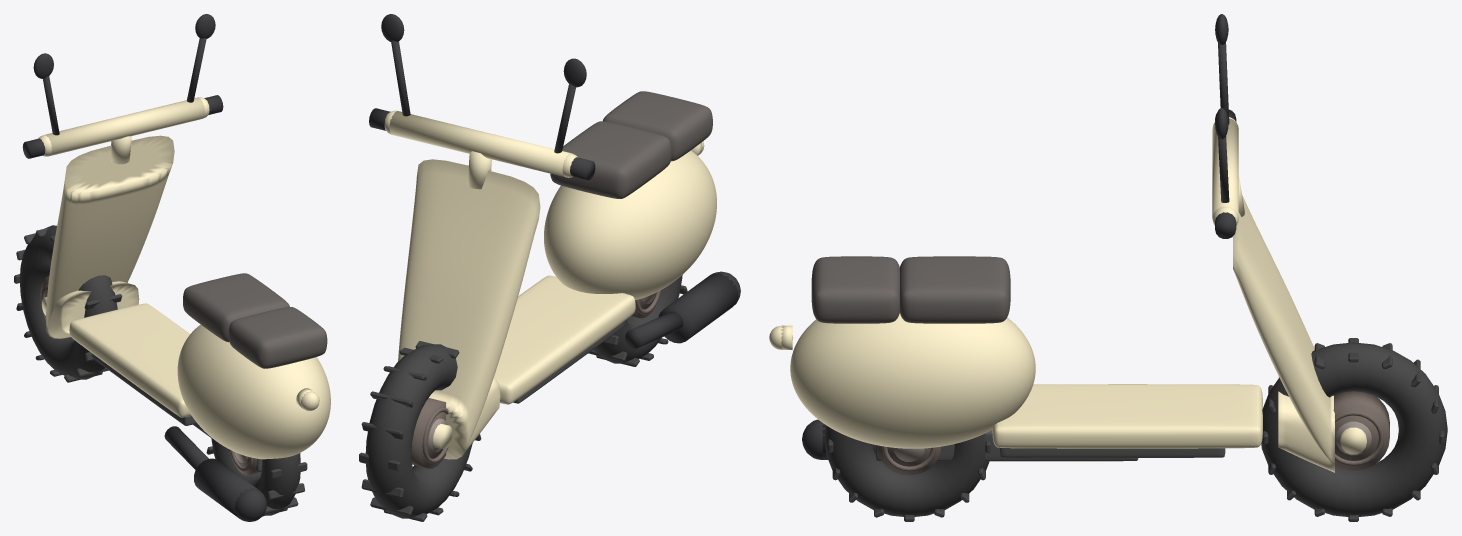
File: 40-scooter.glb
The picture shows the model from 3 angles, left to right: view 1: azimuth 30°, elevation 25°; view 2: azimuth 150°, elevation 25°; view 3: azimuth 270°, elevation 25°; orthographic projection. The views are drawn at different scales.
Parts seen in each view (by area): view 1: legshield, rear_cowl, floorboard, front_tire, seat_rear, seat_front, headset_bar, rear_tire, bridge, exhaust_muffler, Sphere.003, exhaust_pipe (+7 smaller); view 2: legshield, rear_cowl, front_tire, floorboard, seat_front, headset_bar, seat_rear, exhaust_muffler, rear_tire, front_hub, exhaust_pipe, bridge (+7 smaller); view 3: rear_cowl, floorboard, front_tire, legshield, rear_tire, seat_front, seat_rear, front_hub, under_panel, bridge, headset_bar, frame_spine.
Boxes of the visible parts, bbox=[...] form: legshield: bbox=[45, 135, 174, 330]; rear_cowl: bbox=[177, 324, 330, 459]; floorboard: bbox=[69, 303, 191, 417]; front_tire: bbox=[19, 225, 117, 379]; seat_rear: bbox=[228, 307, 327, 368]; seat_front: bbox=[183, 273, 289, 342]; headset_bar: bbox=[45, 97, 205, 155]; rear_tire: bbox=[211, 437, 300, 515]; bridge: bbox=[46, 281, 139, 338]; exhaust_muffler: bbox=[194, 458, 259, 518]; Sphere.003: bbox=[234, 488, 266, 521]; exhaust_pipe: bbox=[164, 426, 208, 469]; legshield: bbox=[398, 159, 540, 459]; rear_cowl: bbox=[544, 150, 716, 300]; front_tire: bbox=[365, 344, 472, 518]; floorboard: bbox=[494, 275, 635, 404]; seat_front: bbox=[550, 121, 671, 198]; headset_bar: bbox=[389, 111, 570, 177]; seat_rear: bbox=[603, 91, 712, 161]; exhaust_muffler: bbox=[658, 273, 737, 343]; rear_tire: bbox=[593, 275, 682, 363]; front_hub: bbox=[411, 398, 446, 468]; exhaust_pipe: bbox=[625, 311, 683, 348]; bridge: bbox=[445, 377, 500, 459]; rear_cowl: bbox=[790, 313, 1035, 448]; floorboard: bbox=[992, 384, 1262, 448]; front_tire: bbox=[1261, 342, 1447, 516]; legshield: bbox=[1233, 195, 1334, 465]; rear_tire: bbox=[824, 425, 989, 516]; seat_front: bbox=[900, 256, 1010, 323]; seat_rear: bbox=[811, 256, 899, 323]; front_hub: bbox=[1333, 391, 1389, 470]; under_panel: bbox=[1000, 448, 1225, 457]; bridge: bbox=[1278, 375, 1334, 472]; headset_bar: bbox=[1212, 118, 1238, 217]; frame_spine: bbox=[875, 430, 1138, 461].
Size of the model in its own units: 0.7 by 1.33 by 1.8.
